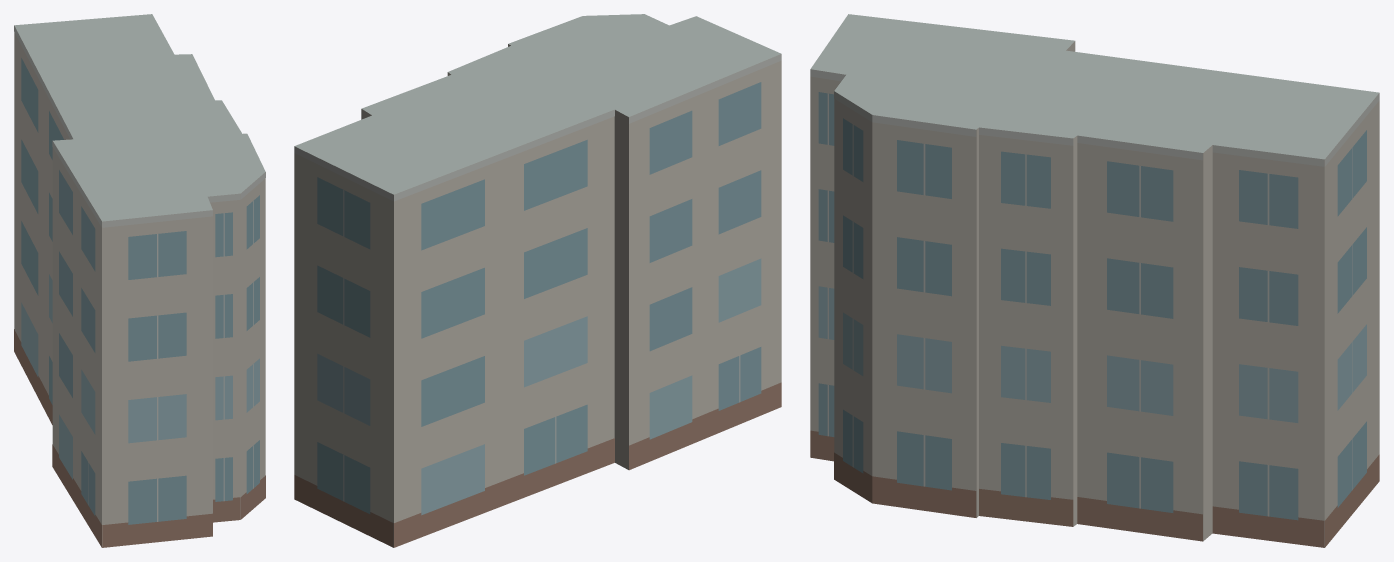
File: survey-upis-32584569.glb
3 views of the same model, side by side, from view 1: azimuth 30°, elevation 25°; view 2: azimuth 150°, elevation 25°; view 3: azimuth 270°, elevation 25° (orthographic). The views are drawn at different scales.
Parts seen in each view (by area): view 1: survey-upis-32584569.tmp; view 2: survey-upis-32584569.tmp; view 3: survey-upis-32584569.tmp.
Boxes of the visible parts, x1,y1,x2,y2 form: survey-upis-32584569.tmp: (14,14,265,547); survey-upis-32584569.tmp: (294,14,781,547); survey-upis-32584569.tmp: (810,14,1379,547).
Bounding box in the file's own units: 10.29 × 12.8 × 17.01.
